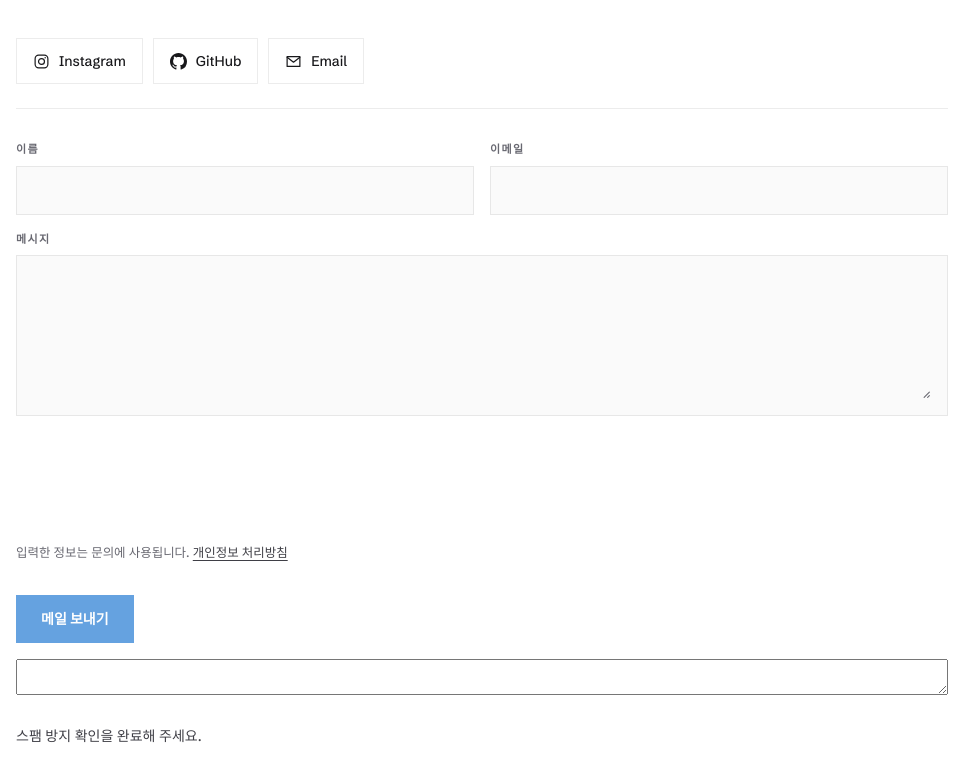
ContactView › 캡차를 해결하면 보내기 버튼이 풀린다
(page scrolled)
Type "token" into the text box named "h-captcha-response" at (482, 677), box [16,659,948,695]
(page scrolled)
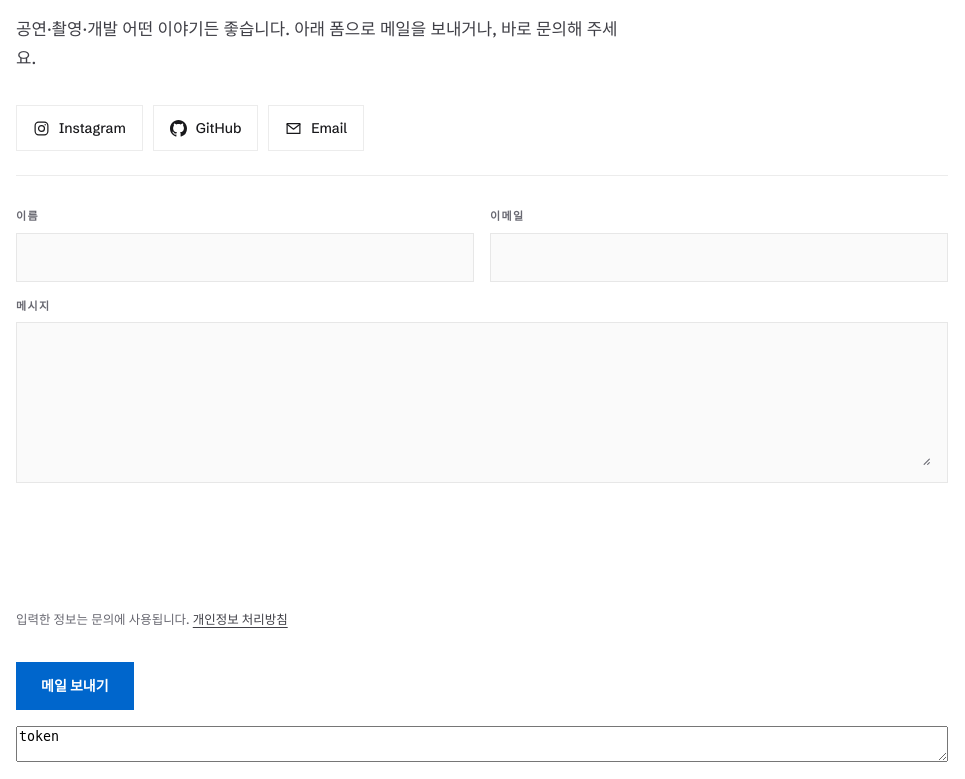
Check: the text "스팸 방지 확인을 완료해 주세요." is gone
